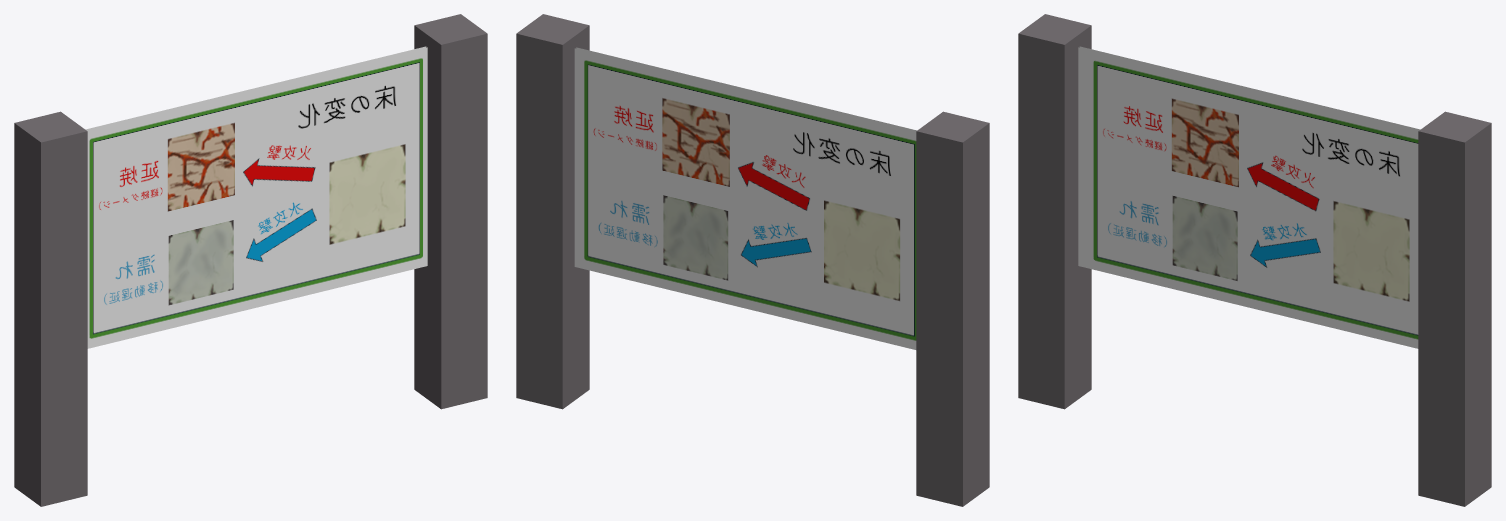
The model's file is signboard_06.obj.
The picture shows the model from 3 angles, left to right: view 1: azimuth 30°, elevation 25°; view 2: azimuth 150°, elevation 25°; view 3: azimuth 330°, elevation 25°; orthographic projection.
Visible parts, largest first — view 1: signboard_06:pPlane1group1, signboard_06:group1pCube1, signboard_06:group1pCube2, signboard_06:group1pPlane2; view 2: signboard_06:group1pPlane2, signboard_06:group1pCube1, signboard_06:group1pCube2, signboard_06:pPlane1group1; view 3: signboard_06:pPlane1group1, signboard_06:group1pCube2, signboard_06:group1pCube1, signboard_06:group1pPlane2.
Boxes of the visible parts, left/top/right/bottom form: signboard_06:pPlane1group1: left=87, top=47, right=427, bottom=348; signboard_06:group1pCube1: left=14, top=111, right=87, bottom=506; signboard_06:group1pCube2: left=414, top=14, right=487, bottom=409; signboard_06:group1pPlane2: left=85, top=46, right=426, bottom=130; signboard_06:group1pPlane2: left=574, top=48, right=916, bottom=349; signboard_06:group1pCube1: left=916, top=111, right=989, bottom=506; signboard_06:group1pCube2: left=516, top=14, right=589, bottom=409; signboard_06:pPlane1group1: left=576, top=47, right=916, bottom=131; signboard_06:pPlane1group1: left=1078, top=47, right=1418, bottom=348; signboard_06:group1pCube2: left=1418, top=111, right=1491, bottom=506; signboard_06:group1pCube1: left=1018, top=14, right=1091, bottom=409; signboard_06:group1pPlane2: left=1079, top=46, right=1420, bottom=130.
Size of the model in its own units: 1.92 by 1.5 by 0.2.
Materials: 2 (2 with a texture image).
